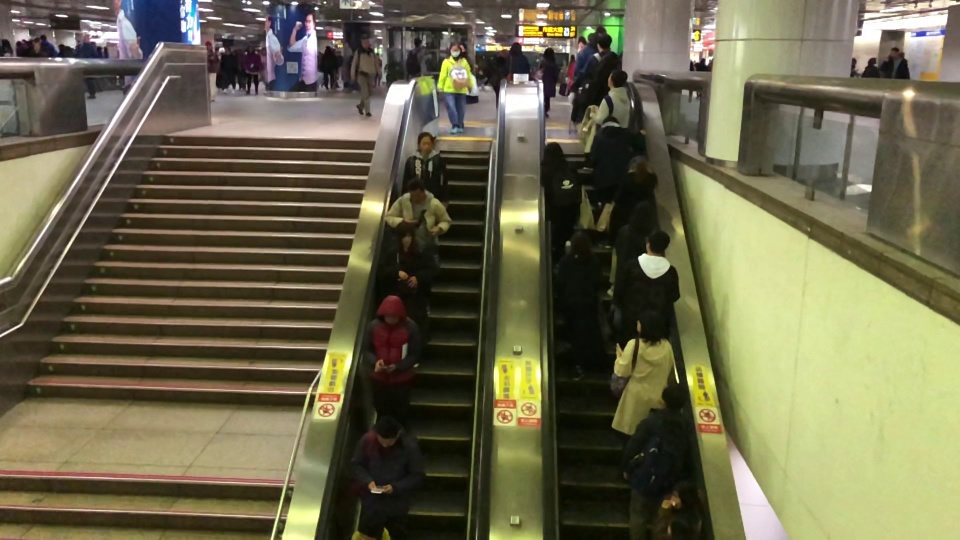person_head: (628, 199, 656, 234), (634, 309, 665, 339), (372, 416, 400, 447), (358, 507, 386, 538), (670, 479, 697, 510), (377, 294, 405, 322), (661, 382, 686, 409), (644, 228, 670, 253), (569, 230, 592, 256), (395, 222, 416, 248), (406, 177, 426, 203), (416, 131, 435, 154), (543, 141, 562, 161), (627, 154, 647, 173), (607, 70, 628, 88), (596, 59, 617, 76), (596, 32, 613, 52), (448, 41, 461, 58), (542, 46, 555, 63), (603, 116, 620, 128), (360, 33, 371, 48), (588, 31, 599, 46), (510, 42, 522, 55), (867, 55, 877, 67), (204, 39, 213, 50), (1, 38, 11, 47), (81, 33, 91, 42), (499, 48, 508, 58), (413, 36, 421, 47), (246, 44, 253, 53), (851, 56, 857, 65), (262, 46, 267, 56), (224, 45, 230, 53), (324, 46, 332, 52), (40, 34, 46, 40), (699, 57, 705, 63)
person_vbox: (622, 381, 686, 538), (385, 178, 454, 315), (349, 416, 426, 534), (610, 308, 676, 440), (361, 294, 425, 425), (381, 222, 437, 370), (605, 153, 657, 300), (615, 227, 681, 340), (556, 231, 602, 381), (611, 198, 656, 330), (541, 141, 579, 272), (590, 116, 647, 196), (404, 131, 450, 210), (435, 41, 473, 136), (571, 58, 617, 122), (349, 32, 380, 116), (588, 69, 631, 129), (535, 44, 560, 119), (77, 34, 99, 100), (582, 32, 613, 75), (573, 31, 599, 77), (243, 43, 263, 95), (204, 39, 220, 103), (405, 35, 427, 78), (220, 45, 238, 95), (505, 42, 531, 75), (318, 45, 336, 90), (694, 58, 706, 97), (260, 47, 268, 94), (40, 33, 55, 58), (862, 57, 877, 79), (879, 53, 891, 77), (850, 57, 861, 79), (0, 38, 13, 56)
